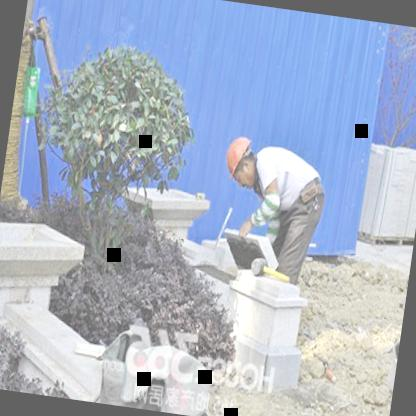helmet: (222, 133, 265, 190)
